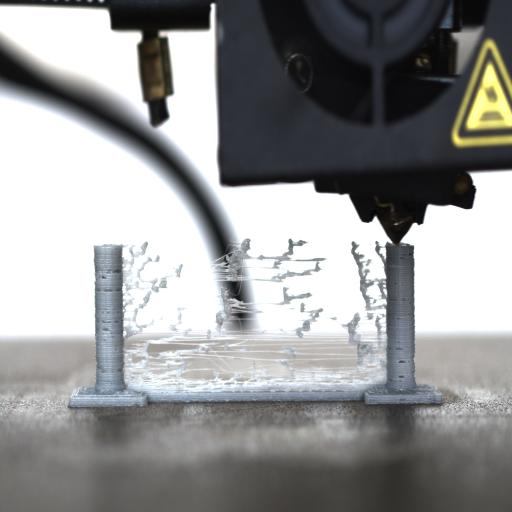stringing: (124, 240, 388, 392), (121, 241, 185, 341)
